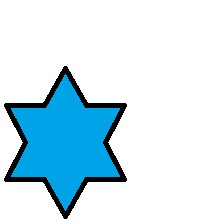star: (4, 66, 126, 219)
